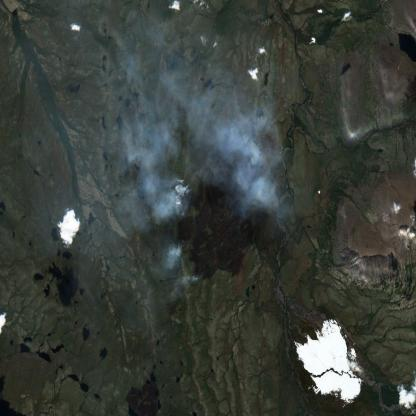fire: (170, 111, 267, 291)
